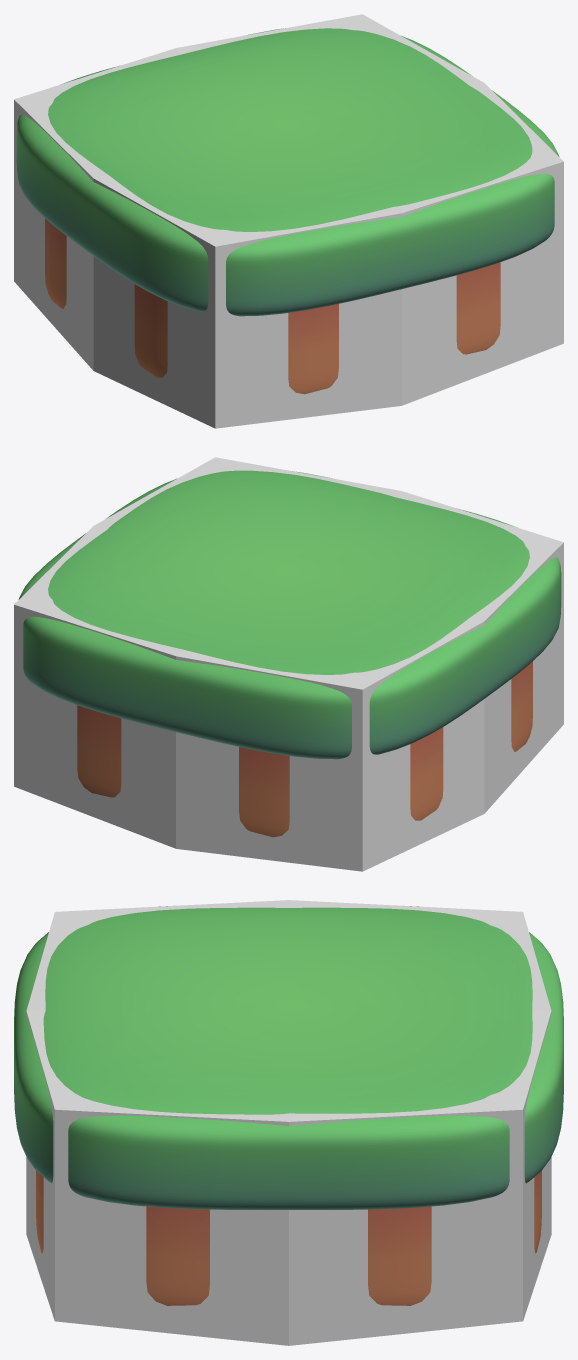
Rendered from PlatformBigLow.glb.
3 renders of one model, top to bottom at view 1: azimuth 30°, elevation 25°; view 2: azimuth 150°, elevation 25°; view 3: azimuth 270°, elevation 25°, orthographic. The views are drawn at different scales.
Parts seen in each view (by area): view 1: PlatformBigLow, colision-colonly.006; view 2: PlatformBigLow, colision-colonly.006; view 3: PlatformBigLow, colision-colonly.006.
Part boxes in pixels (<box>): PlatformBigLow: <box>16,28,559,394</box>; colision-colonly.006: <box>14,14,563,428</box>; PlatformBigLow: <box>18,470,561,837</box>; colision-colonly.006: <box>14,457,563,871</box>; PlatformBigLow: <box>14,906,563,1305</box>; colision-colonly.006: <box>26,900,551,1345</box>.
Size of the model in its own units: 4 by 1.84 by 4.
1 material, 1 textured.
